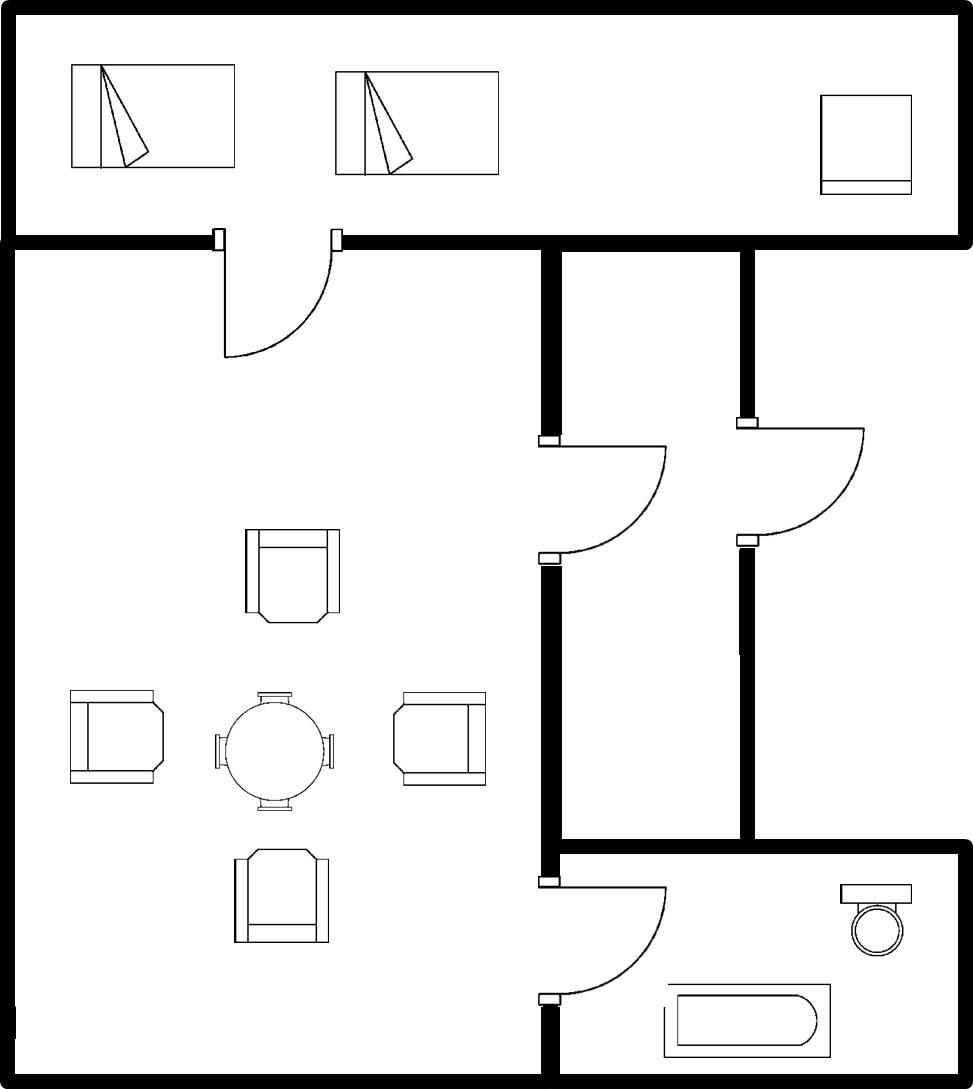bed: (61, 51, 242, 176), (326, 63, 504, 182)
round_table: (207, 680, 339, 818)
toilet: (828, 879, 918, 960)
tub: (657, 973, 836, 1065)
